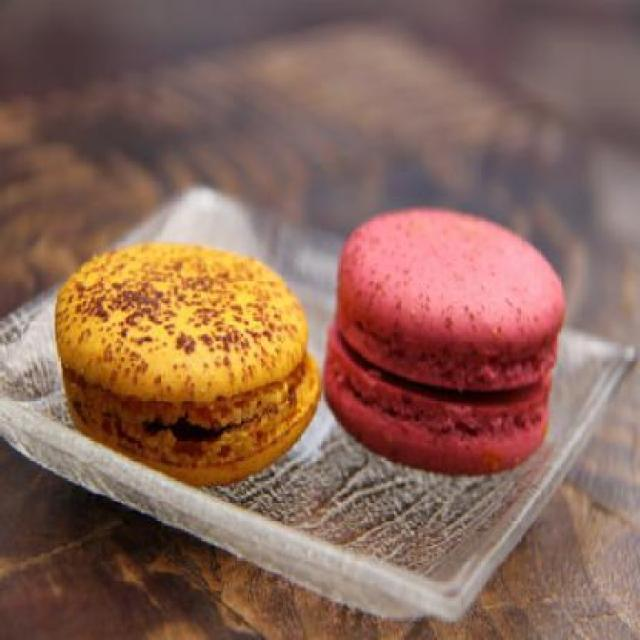Macaron: (54, 236, 322, 490)
